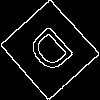D: (24, 24, 83, 83)
